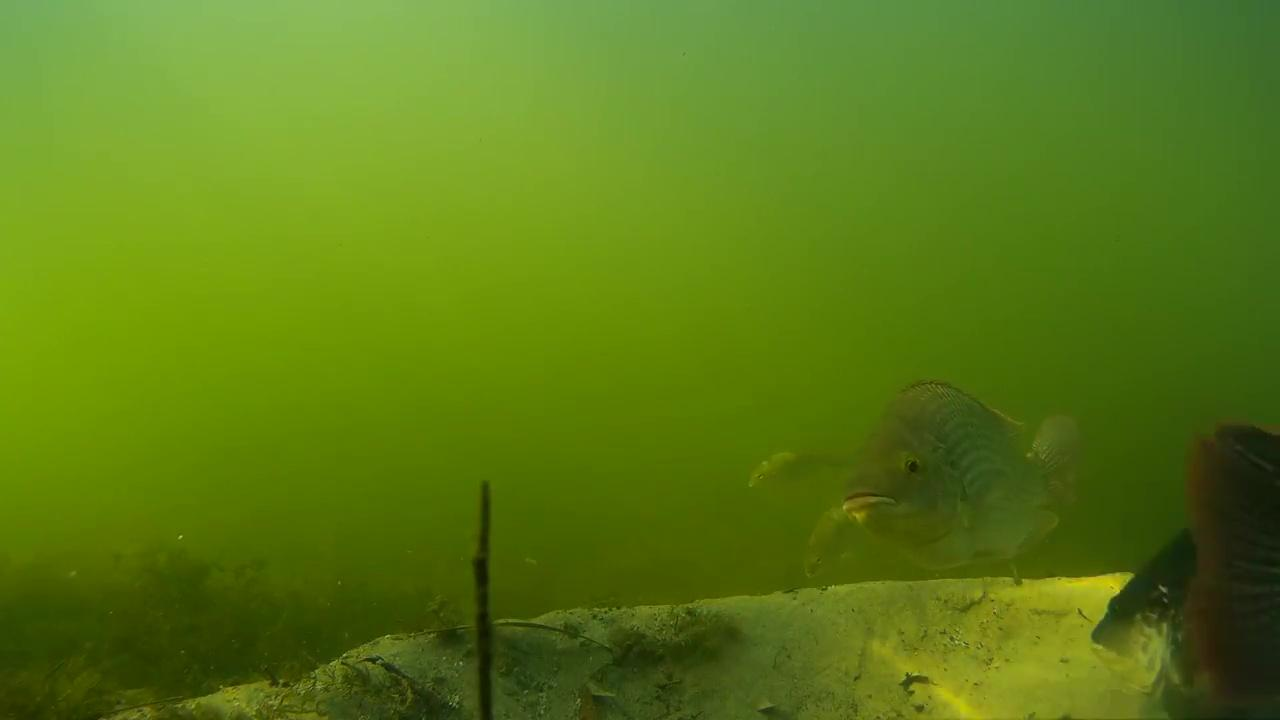Tilapia: (847, 376, 1084, 568), (743, 442, 840, 494), (793, 502, 856, 582)
